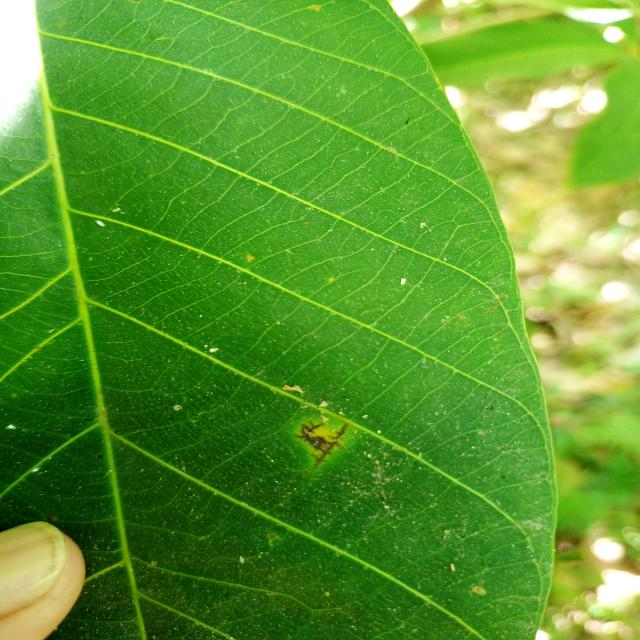Leaf-Blight: (293, 418, 348, 470)
